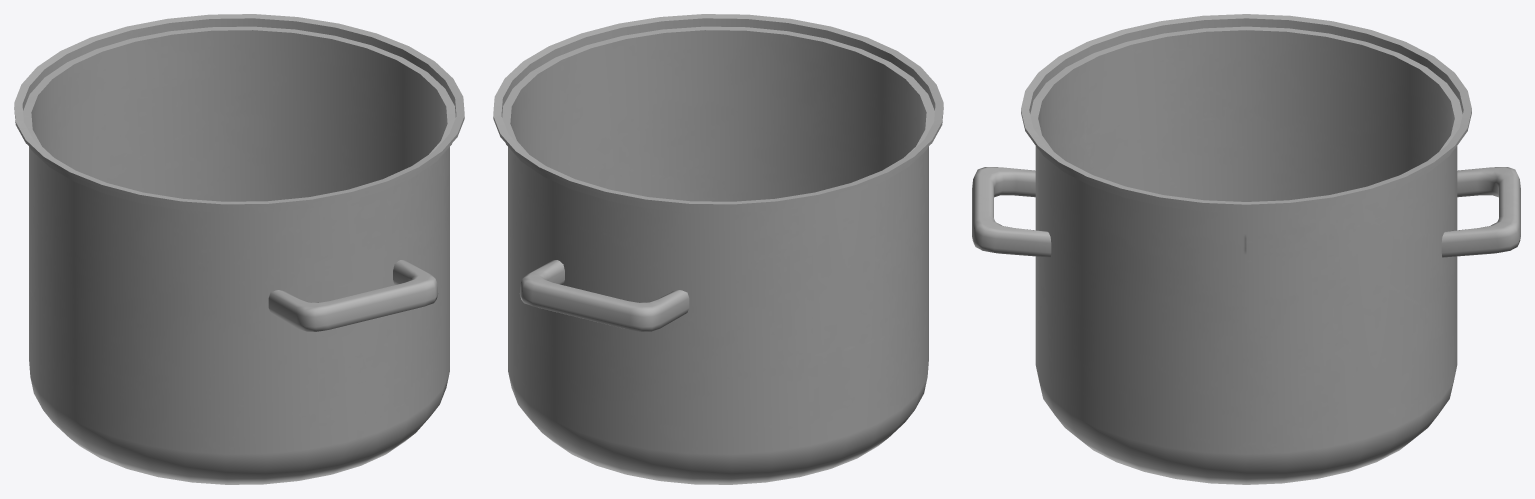
The model's file is SM_Pot_02.fbx.
The picture shows the model from 3 angles, left to right: view 1: azimuth 30°, elevation 25°; view 2: azimuth 150°, elevation 25°; view 3: azimuth 270°, elevation 25°; orthographic projection.
Visible parts, largest first — view 1: SM_Pot_02_LOD0; view 2: SM_Pot_02_LOD0; view 3: SM_Pot_02_LOD0.
Boxes of the visible parts, box(x1,y1,x2,y2) form: SM_Pot_02_LOD0: box(14, 14, 464, 484); SM_Pot_02_LOD0: box(493, 14, 943, 484); SM_Pot_02_LOD0: box(972, 14, 1520, 484).
Size of the model in its own units: 25.69 by 31.25 by 18.7.
Materials: 1 (1 with a texture image).
